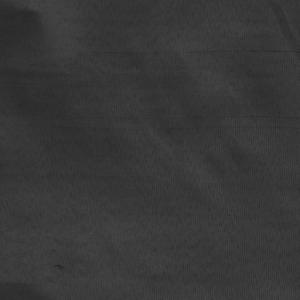Wrinkle: (1, 1, 84, 168), (267, 1, 300, 77)
